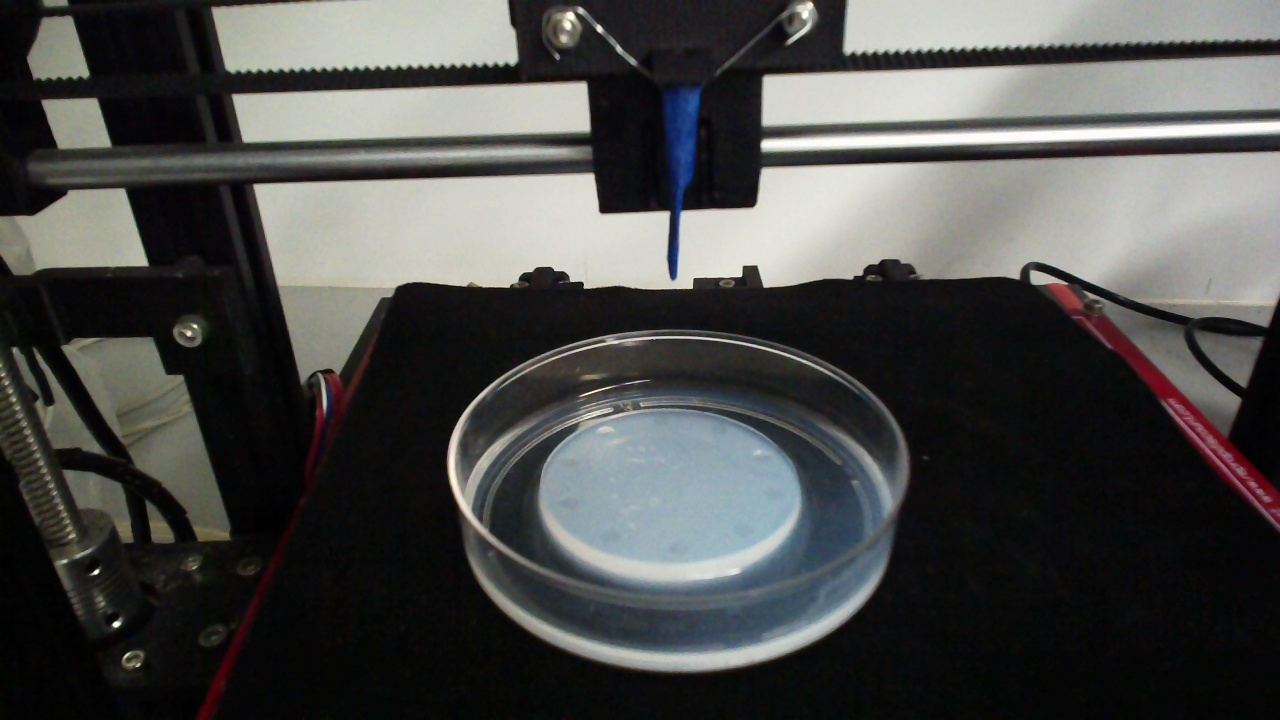groove: (598, 527, 621, 545), (762, 484, 785, 502), (555, 494, 579, 511), (667, 538, 689, 556), (733, 522, 754, 539), (750, 448, 771, 464), (708, 421, 728, 436), (556, 456, 578, 469), (596, 423, 615, 438), (651, 413, 670, 427)
needle: (664, 84, 698, 280)
